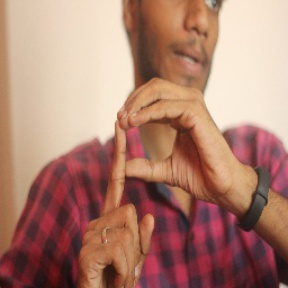P: (83, 77, 225, 279)
